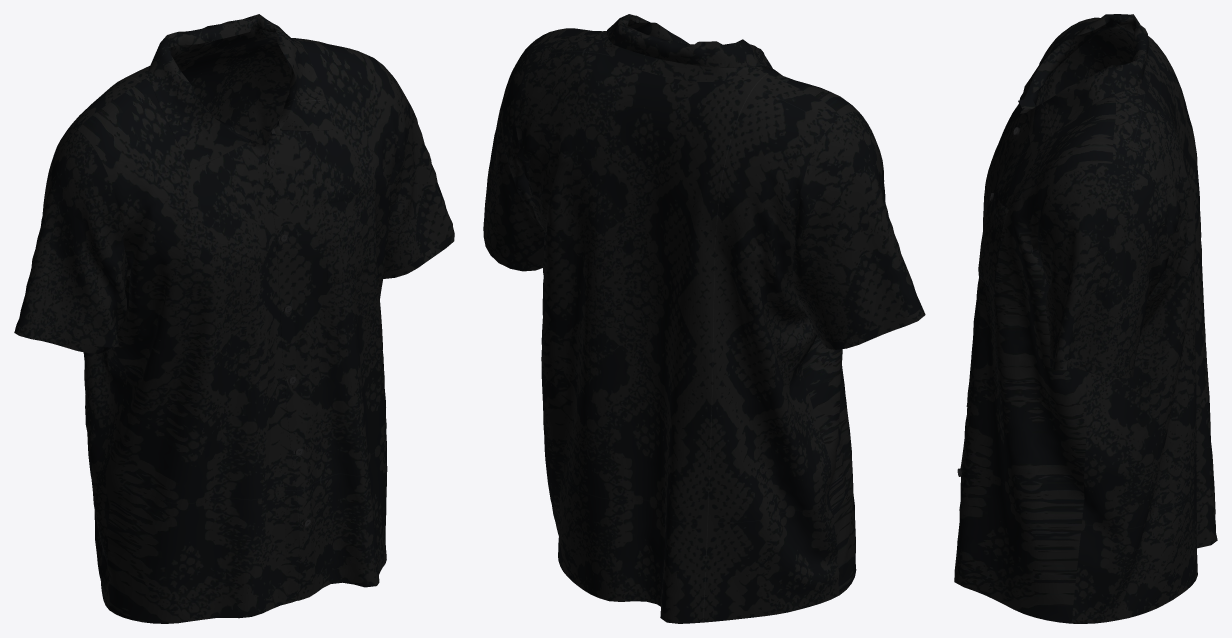
Rendered from black-naja.glb.
3 renders of one model, left to right at view 1: azimuth 30°, elevation 25°; view 2: azimuth 150°, elevation 25°; view 3: azimuth 270°, elevation 25°, orthographic. The views are drawn at different scales.
Parts seen in each view (by area): view 1: Object_6, Object_13, Object_3, Object_5, Object_12, Object_4, Object_11, Object_8, Object_7; view 2: Object_3, Object_13, Object_6, Object_12, Object_5, Object_8; view 3: Object_3, Object_6, Object_12, Object_5, Object_13, Object_11, Object_7, Object_4.
Boxes of the visible parts, <box> form: Object_6: <box>78,40,398,623</box>; Object_13: <box>16,127,128,347</box>; Object_3: <box>67,37,331,609</box>; Object_5: <box>144,14,333,169</box>; Object_12: <box>375,59,452,271</box>; Object_4: <box>245,124,311,600</box>; Object_11: <box>319,175,376,285</box>; Object_8: <box>14,325,111,353</box>; Object_7: <box>383,227,454,278</box>; Object_3: <box>515,33,840,623</box>; Object_13: <box>792,111,921,342</box>; Object_6: <box>532,28,861,594</box>; Object_12: <box>483,40,544,264</box>; Object_5: <box>602,14,782,81</box>; Object_8: <box>820,307,925,349</box>; Object_3: <box>1071,30,1217,623</box>; Object_6: <box>954,17,1116,623</box>; Object_12: <box>1037,163,1171,370</box>; Object_5: <box>1024,14,1150,154</box>; Object_13: <box>1037,28,1133,104</box>; Object_11: <box>978,180,1008,298</box>; Object_7: <box>1050,358,1134,378</box>; Object_4: <box>960,96,1035,479</box>.
Bounding box in the file's own units: 0.589 × 0.7019 × 0.3166.
2 materials, 1 textured.
